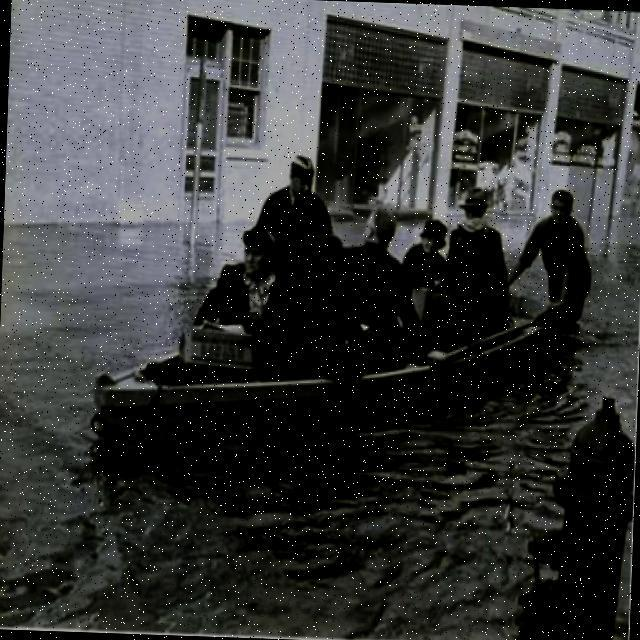fire_hydrant: (518, 390, 637, 640)
